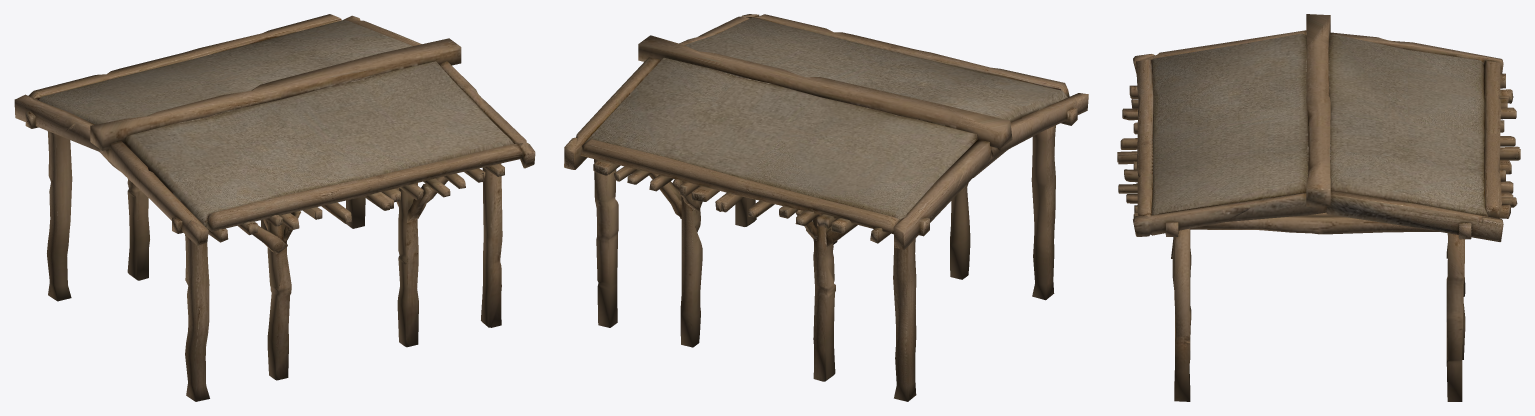
Rendered from hut2.glb.
3 views of the same model, side by side, from view 1: azimuth 30°, elevation 25°; view 2: azimuth 150°, elevation 25°; view 3: azimuth 270°, elevation 25° (orthographic).
Parts seen in each view (by area): view 1: tripo_node_c89a744a; view 2: tripo_node_c89a744a; view 3: tripo_node_c89a744a.
Part boxes in pixels (<box>): tripo_node_c89a744a: <box>14,14,535,401</box>; tripo_node_c89a744a: <box>564,14,1088,401</box>; tripo_node_c89a744a: <box>1117,14,1520,401</box>.
Bounding box in the file's own units: 7.39 × 4.47 × 7.18.
1 material, 1 textured.
